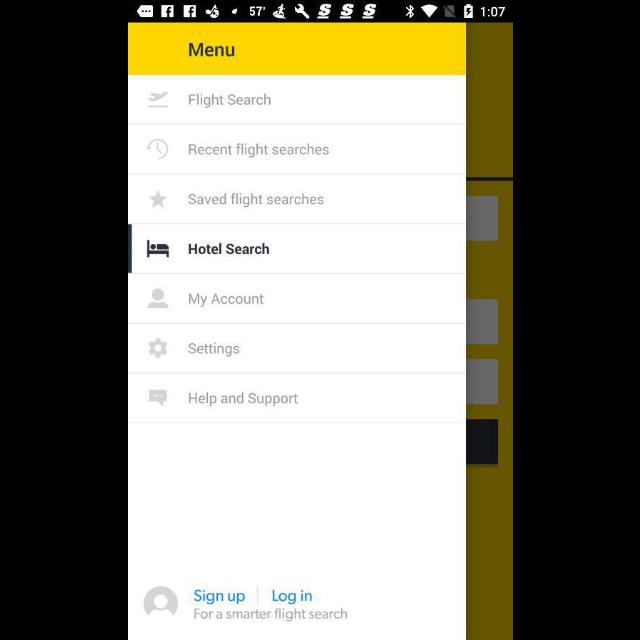icon: (144, 586, 178, 618), (146, 138, 168, 160), (147, 289, 169, 309), (148, 338, 168, 359), (148, 190, 168, 208), (148, 389, 168, 406)
image: (147, 240, 169, 258), (148, 92, 168, 108)
panel: (128, 24, 464, 640)
text: (193, 607, 347, 623), (188, 143, 328, 159), (188, 192, 324, 208), (188, 391, 298, 407), (188, 93, 270, 109), (188, 292, 264, 308), (187, 243, 269, 255), (188, 342, 240, 358), (193, 589, 245, 605), (189, 42, 235, 58), (271, 589, 311, 605)
uppertaskbar: (128, 1, 512, 23)
